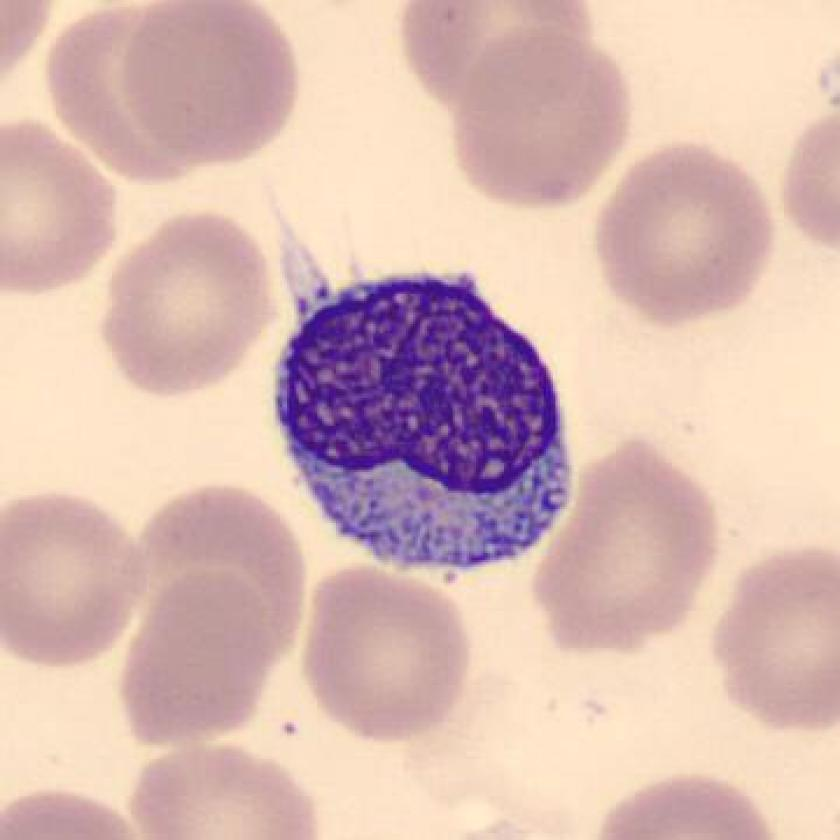monocyte: (246, 240, 594, 594)
